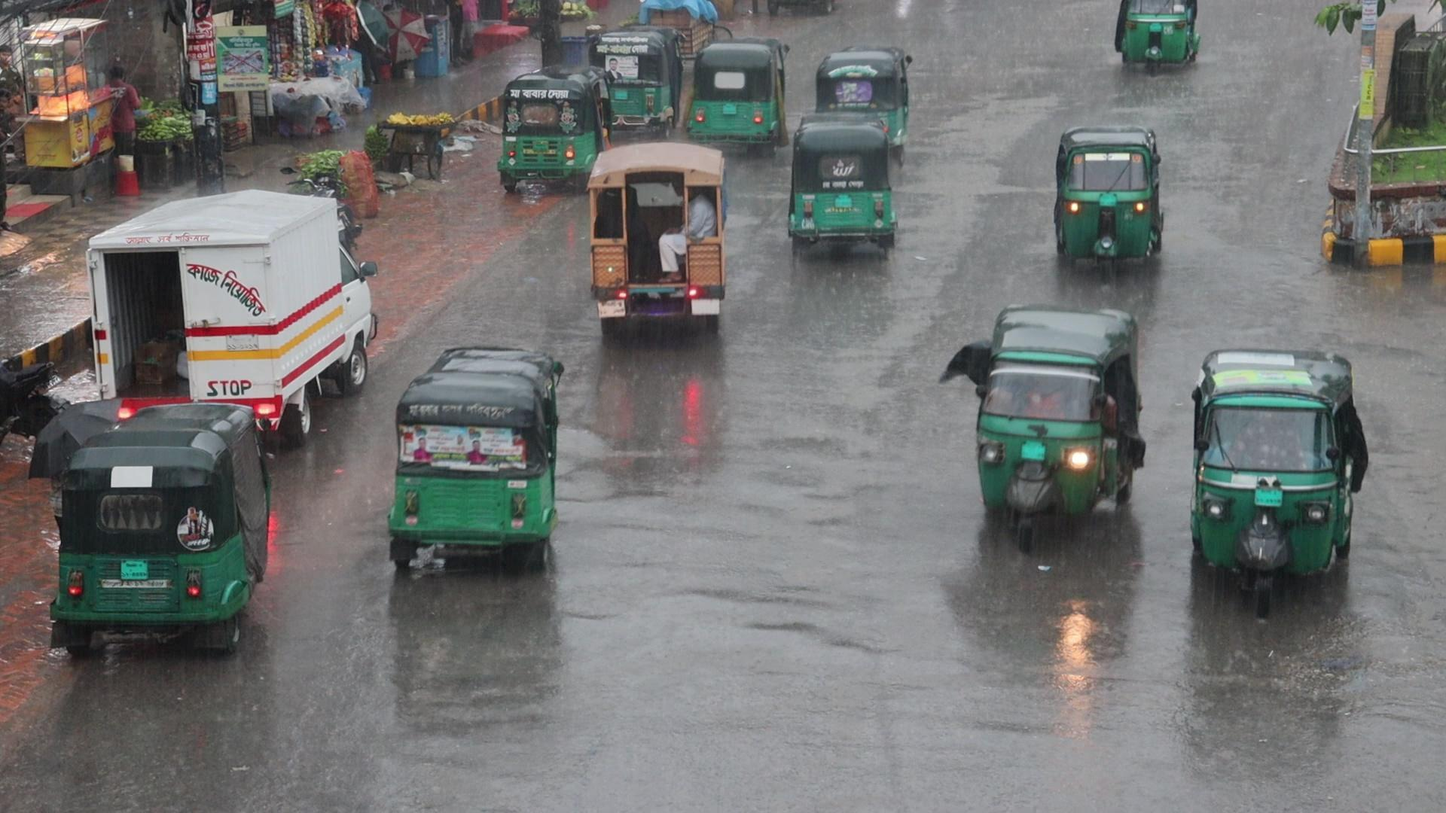Truck: (586, 139, 729, 339)
